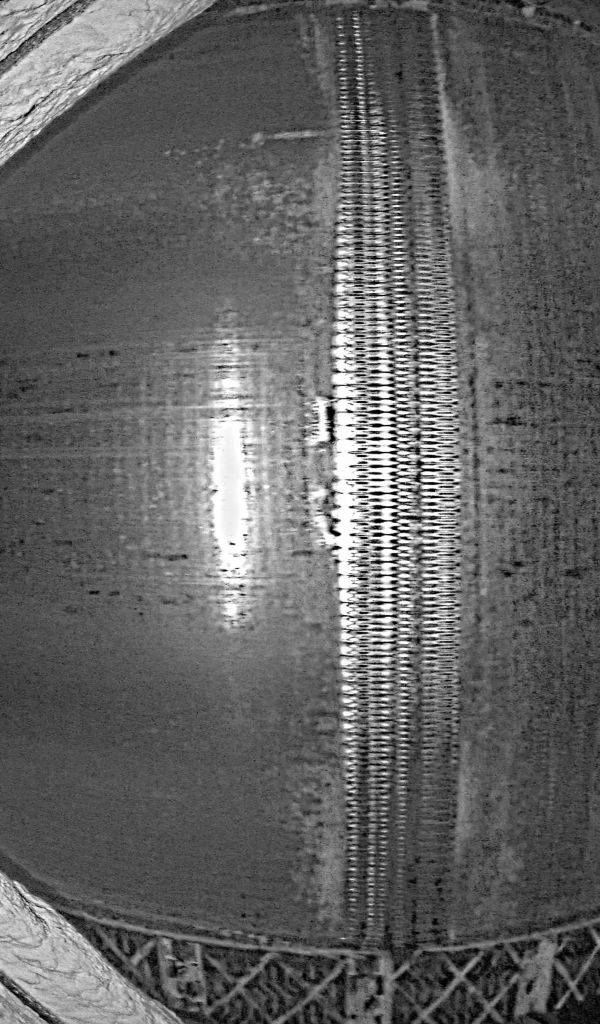splice: (312, 1, 468, 948)
